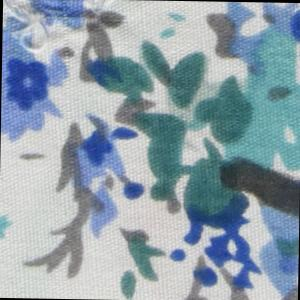Damage: (2, 1, 142, 57)
Stain: (214, 151, 300, 231)
